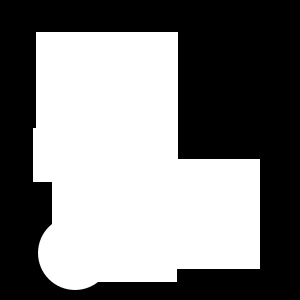circle: (36, 32, 178, 174), (52, 157, 177, 282), (150, 159, 260, 269), (33, 128, 87, 182)
rectangle: (38, 216, 112, 290)
